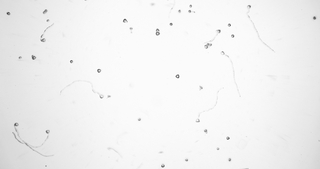germinated: (38, 31, 48, 41), (194, 112, 203, 123), (245, 3, 253, 15), (219, 50, 230, 58), (11, 121, 19, 132), (95, 90, 104, 99), (214, 27, 221, 37), (44, 127, 50, 138)
nongerminated: (30, 53, 38, 61), (121, 17, 129, 24), (226, 21, 233, 28), (224, 134, 231, 141), (17, 54, 24, 61), (310, 14, 317, 20), (174, 72, 180, 79), (201, 127, 208, 133), (226, 155, 232, 162), (160, 161, 166, 168), (95, 67, 101, 74), (68, 58, 75, 64), (5, 10, 12, 16), (229, 32, 235, 38), (215, 145, 221, 151), (43, 7, 49, 13), (154, 30, 161, 35), (184, 156, 189, 163), (203, 44, 209, 49), (188, 3, 193, 9), (177, 7, 183, 12), (168, 22, 174, 27), (136, 115, 141, 121), (45, 17, 50, 23), (154, 27, 160, 31), (187, 9, 192, 13)
